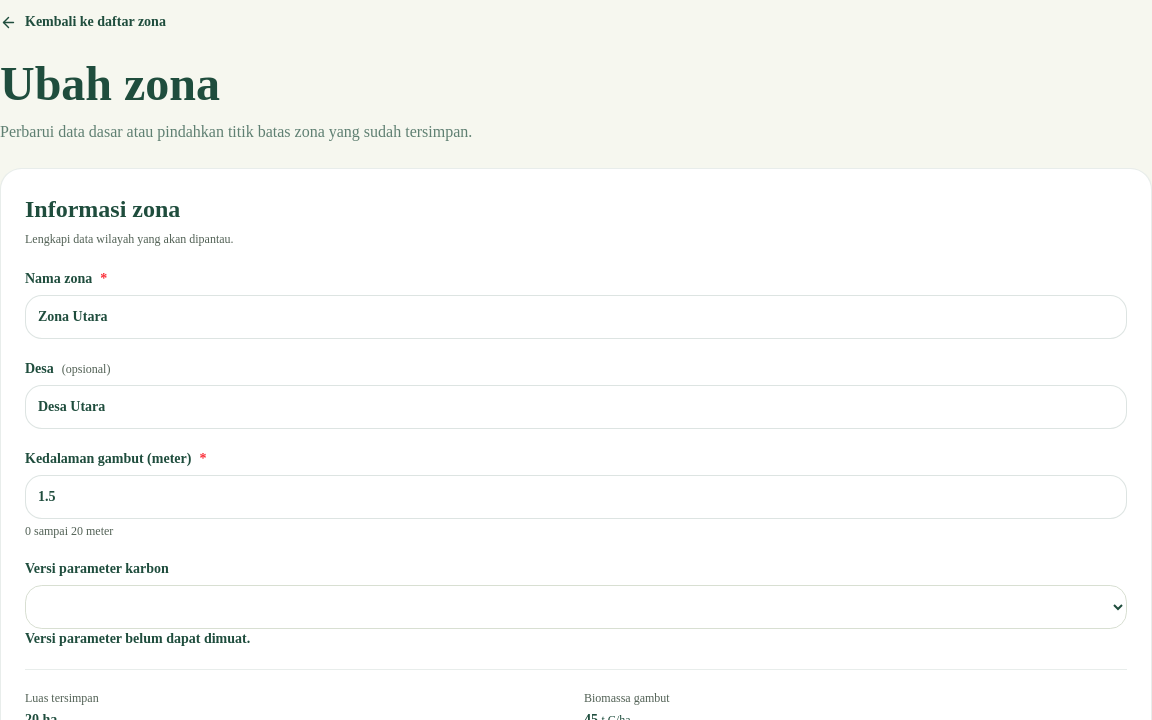
Test case: preserves zone input when saving fails
Replace the text in the field labelled "Nama zona *" with "Zona Utara Baru" at (576, 317), box [25,295,1127,339]
(page scrolled)
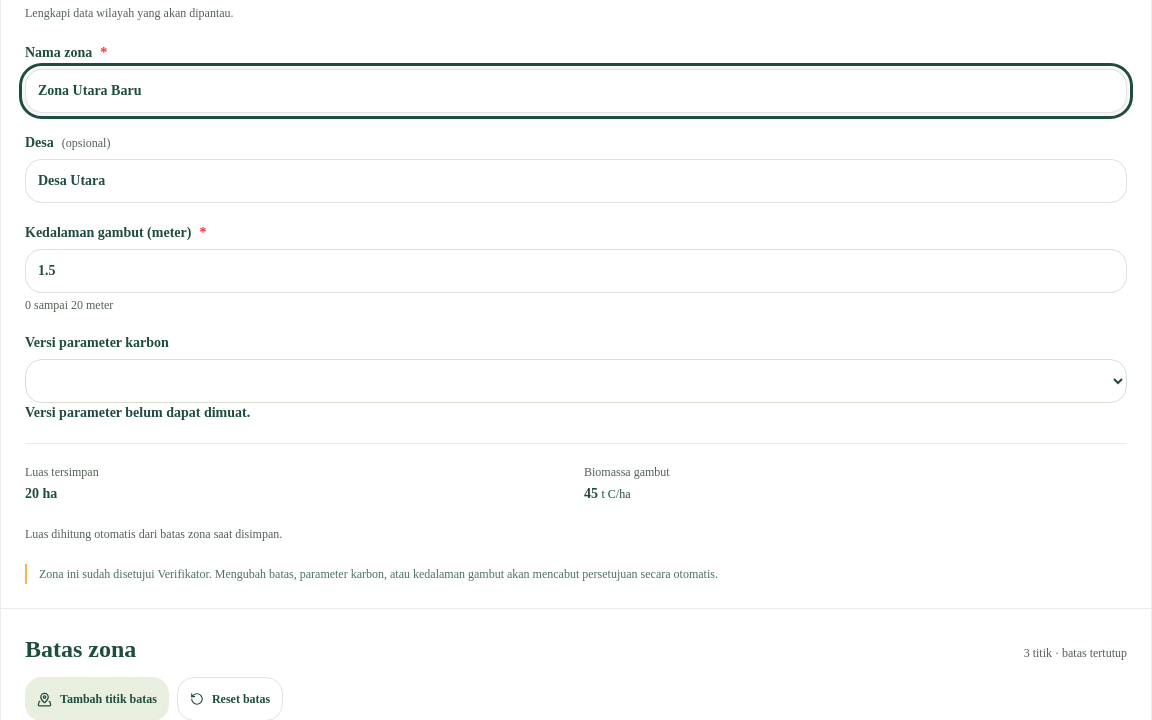
Submit the form "Informasi zona"
(page scrolled)
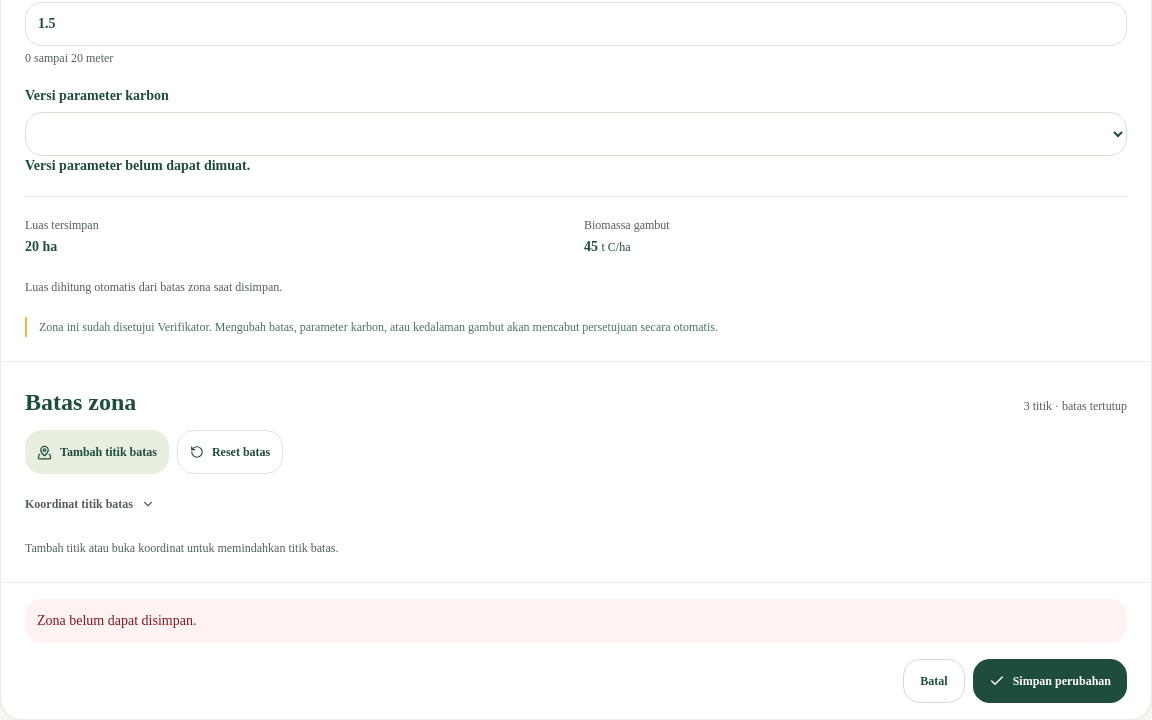
Expected: the button "Simpan perubahan" is enabled, [973,659,1127,703]
Now the message "Zona belum dapat disimpan." is shown, box [25,599,1127,643]
